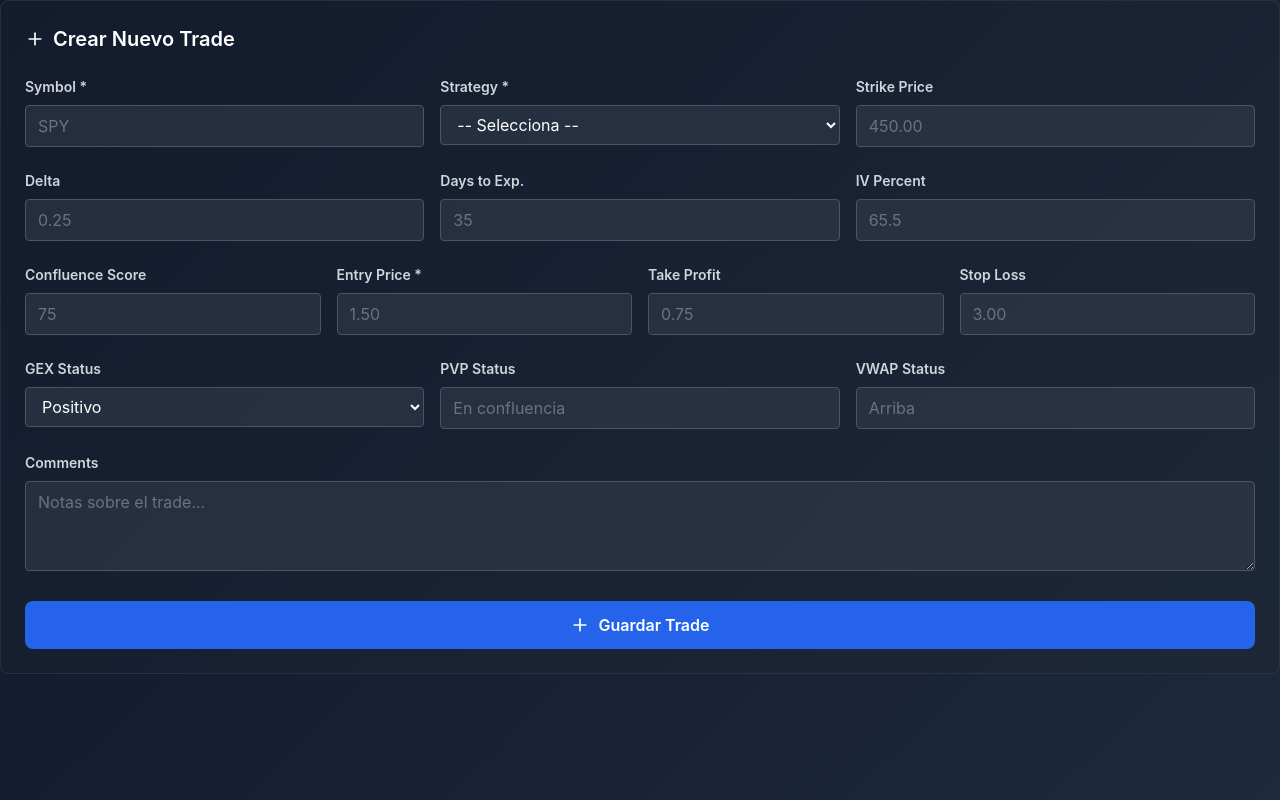
Test: TradeInputForm Component › Form Input Changes › should accept decimal entry prices
Type "100.50" into the number field labelled "Entry Price *" at (484,314), box [336, 293, 632, 335]
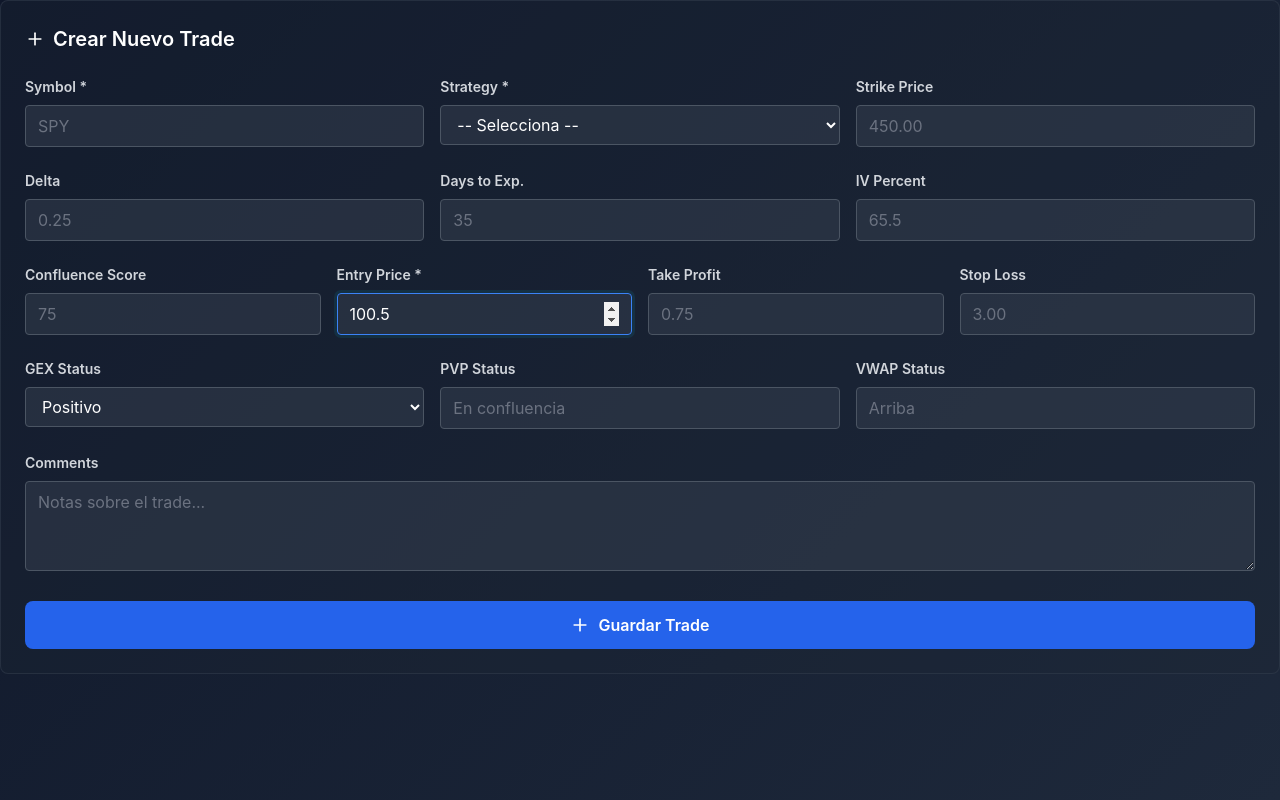
Expected: the number field labelled "Entry Price *" holds "100.5", [336, 293, 632, 335]
